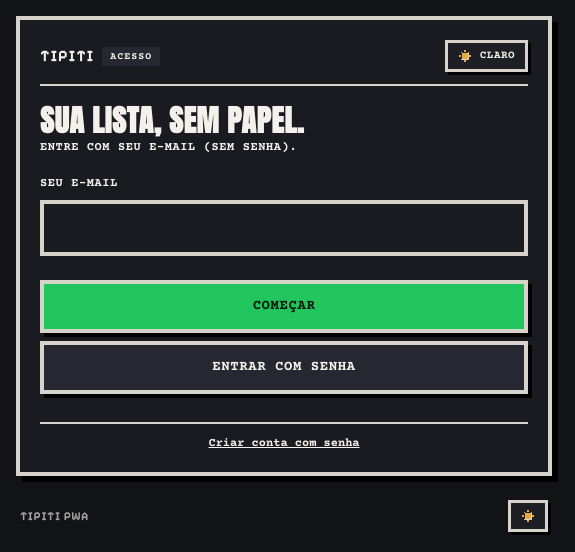
LoginPage › sends a sign-in link and confirms submitted email
Type "ana@example.com" into the field labelled "Seu e-mail" at {"x": 284, "y": 228}, box [40,200,528,256]
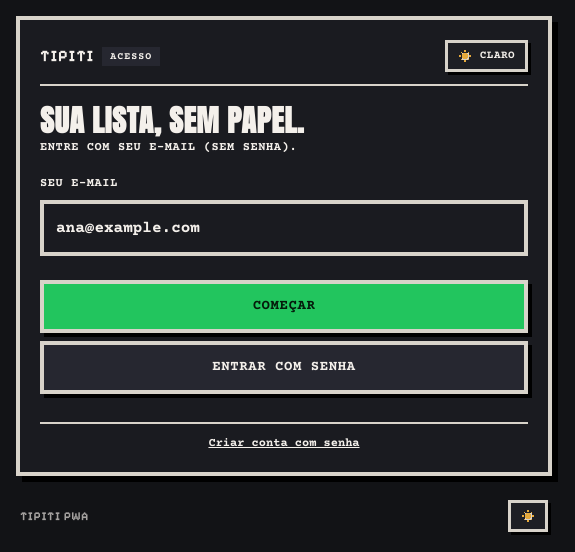
Click the button "Começar" at {"x": 284, "y": 306}, box [40,280,528,333]
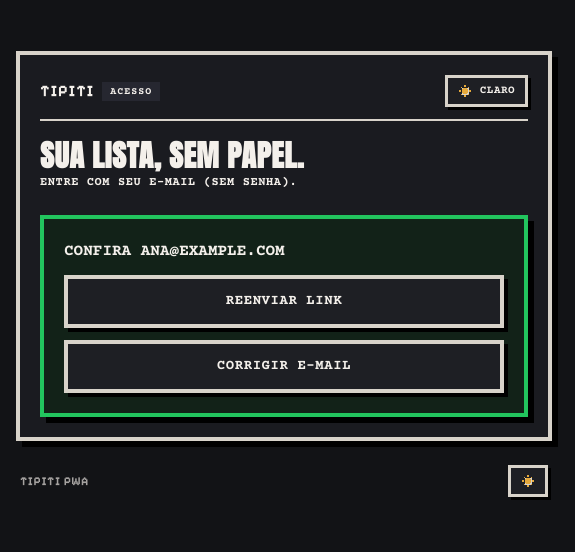
Now the text "Confira ana@example.com" is shown, box [64,242,285,260]
